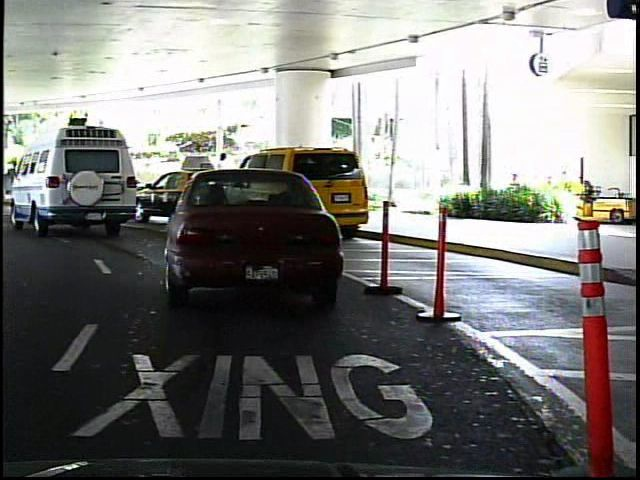person: (212, 148, 239, 216), (48, 156, 68, 200), (9, 156, 20, 197)
